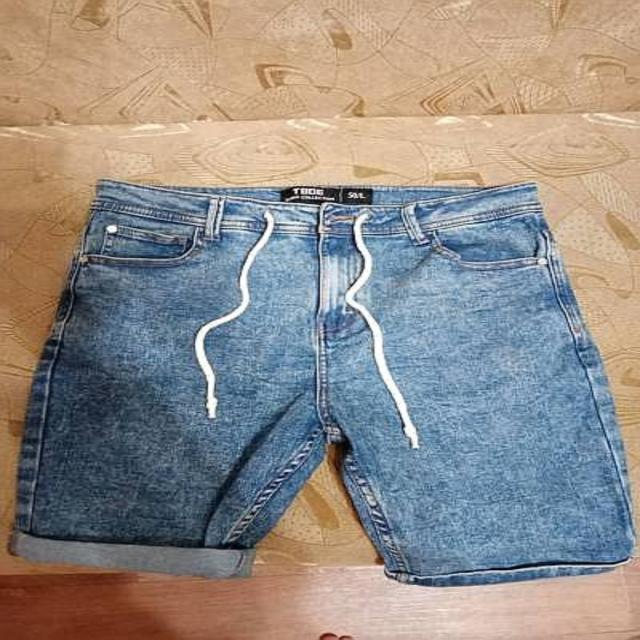SHORT: (3, 160, 640, 592)
